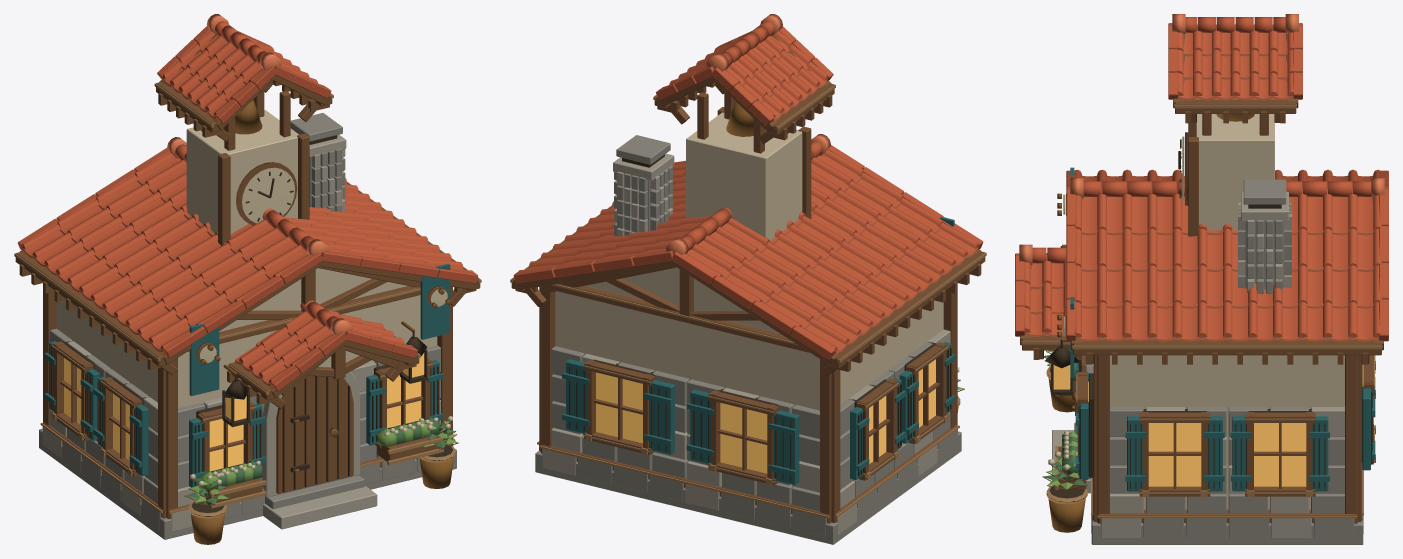
3 renders of one model, left to right at view 1: azimuth 30°, elevation 25°; view 2: azimuth 150°, elevation 25°; view 3: azimuth 270°, elevation 25°, orthographic. The views are drawn at different scales.
Parts seen in each view (by area): view 1: alpine_civic_hall_geometry, alpine_civic_hall_geometry ceramic; view 2: alpine_civic_hall_geometry, alpine_civic_hall_geometry ceramic; view 3: alpine_civic_hall_geometry, alpine_civic_hall_geometry ceramic.
Boxes of the visible parts, left/top/right/bottom form: alpine_civic_hall_geometry: left=14, top=34, right=481, bottom=544; alpine_civic_hall_geometry ceramic: left=18, top=14, right=477, bottom=391; alpine_civic_hall_geometry: left=510, top=35, right=986, bottom=544; alpine_civic_hall_geometry ceramic: left=513, top=14, right=983, bottom=359; alpine_civic_hall_geometry: left=1020, top=34, right=1383, bottom=544; alpine_civic_hall_geometry ceramic: left=1015, top=14, right=1388, bottom=341.
Bounding box in the file's own units: 1.04 × 1.28 × 0.9568.
